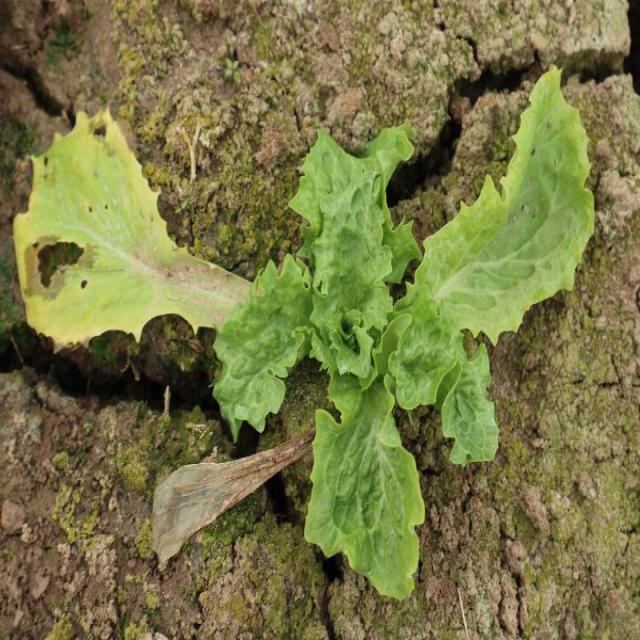crop: (213, 66, 598, 600)
